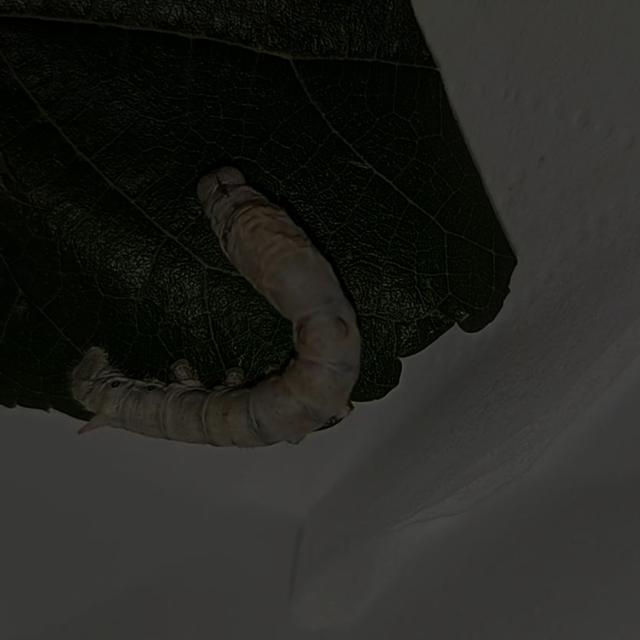Healthy: (55, 154, 371, 472)
